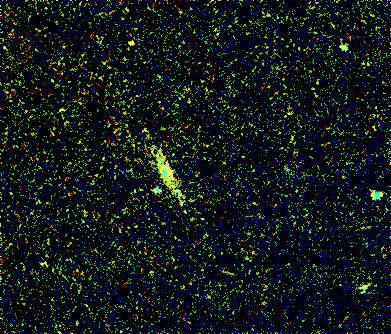star: (116, 27, 146, 57)
